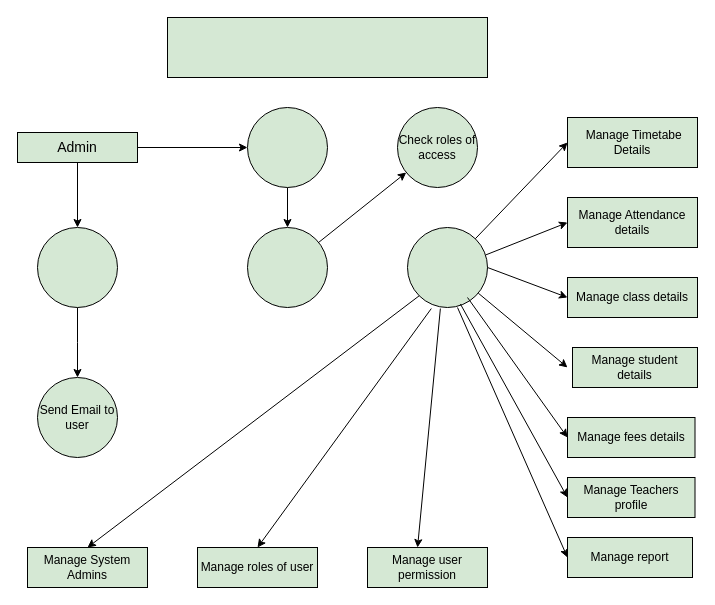
This 715x605 diagram has some shape labels left out. The centre of each missing label's shape, as x and y in pixels:
"Check credentials" goes at point (287, 267).
"Forgot Password" goes at point (77, 267).
"Login to system" goes at point (287, 147).
"Manage mdules" goes at point (447, 267).
"Student Information system" goes at point (327, 47).
